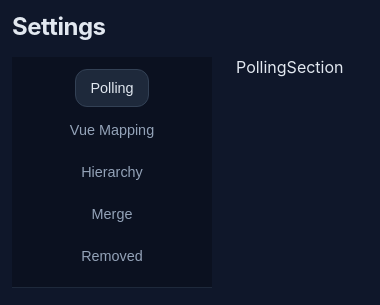
Test: SettingsPage tab navigation › clicking Removed tab renders only the removed devices section
The width and height of the screenshot is (380, 305).
Click the tab "Removed". click: coordinates (112, 256)
box: [66, 237, 158, 275]
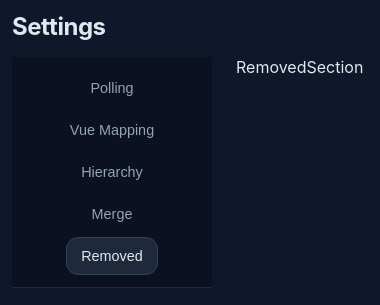
Check: the text "RemovedSection" is shown, box [236, 57, 363, 77]
Check: the text with test id "section-polling" is gone
